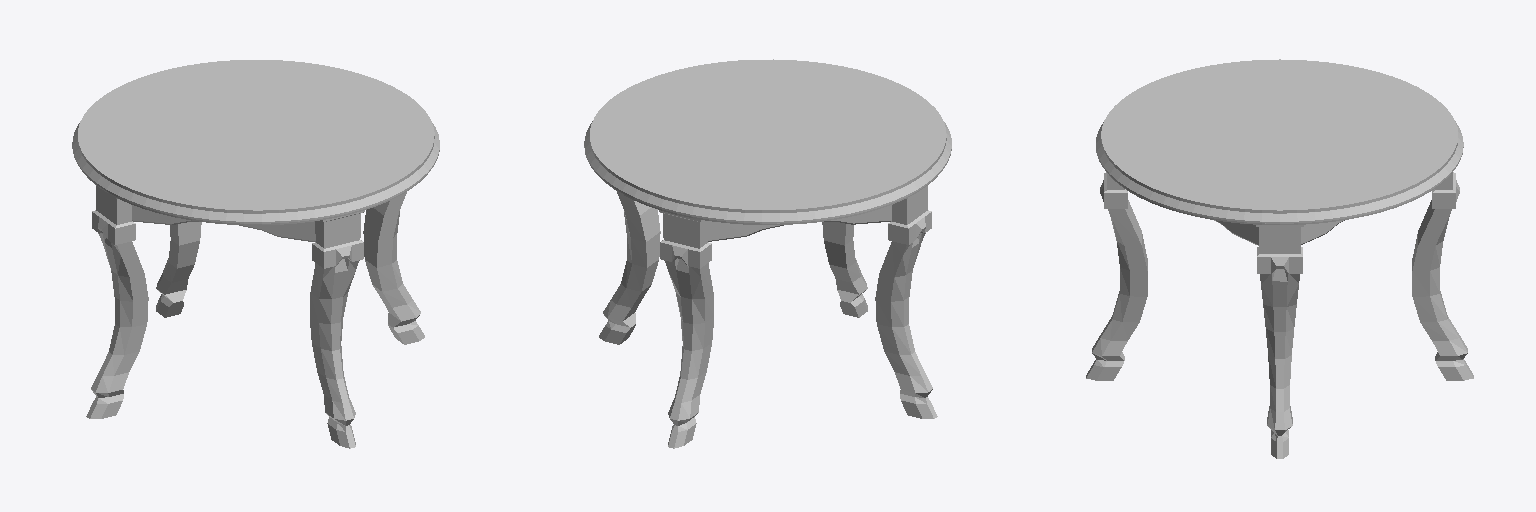
File: table.obj
3 renders of one model, left to right at view 1: azimuth 30°, elevation 25°; view 2: azimuth 150°, elevation 25°; view 3: azimuth 270°, elevation 25°, orthographic.
Parts seen in each view (by area): view 1: polySurface26; view 2: polySurface26; view 3: polySurface26.
Part boxes in pixels (x1,y1,x2,y2): polySurface26: (72, 60, 439, 448); polySurface26: (584, 59, 951, 448); polySurface26: (1086, 59, 1473, 458).
Size of the model in its own units: 59.37 by 40.85 by 59.37.